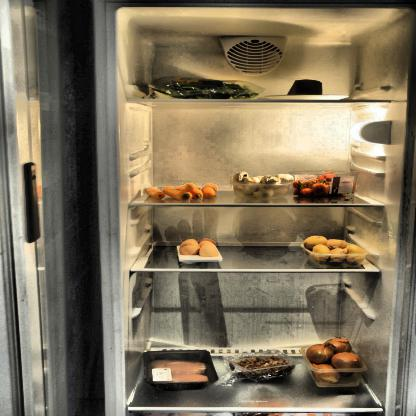carrot: (144, 183, 220, 202)
cheese: (286, 78, 326, 97)
chicken: (147, 352, 216, 386)
eggs: (176, 236, 220, 262)
mushrooms: (232, 171, 294, 202)
onion: (303, 335, 365, 388)
potato: (300, 234, 372, 264)
shrimp: (233, 354, 288, 379)
spinach: (150, 76, 265, 102)
strawberries: (294, 170, 352, 198)
